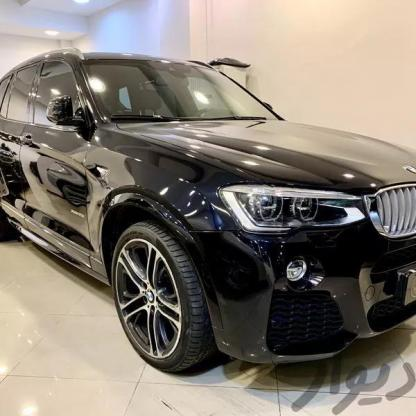Car: (0, 31, 416, 378)
